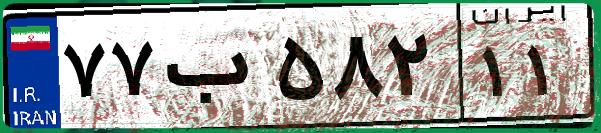1: (475, 38, 525, 113), (525, 38, 570, 115)
2: (385, 28, 445, 110)
5: (270, 28, 330, 110)
7: (57, 26, 110, 100), (110, 28, 158, 98)
8: (330, 28, 385, 110)
ب: (158, 20, 270, 120)
